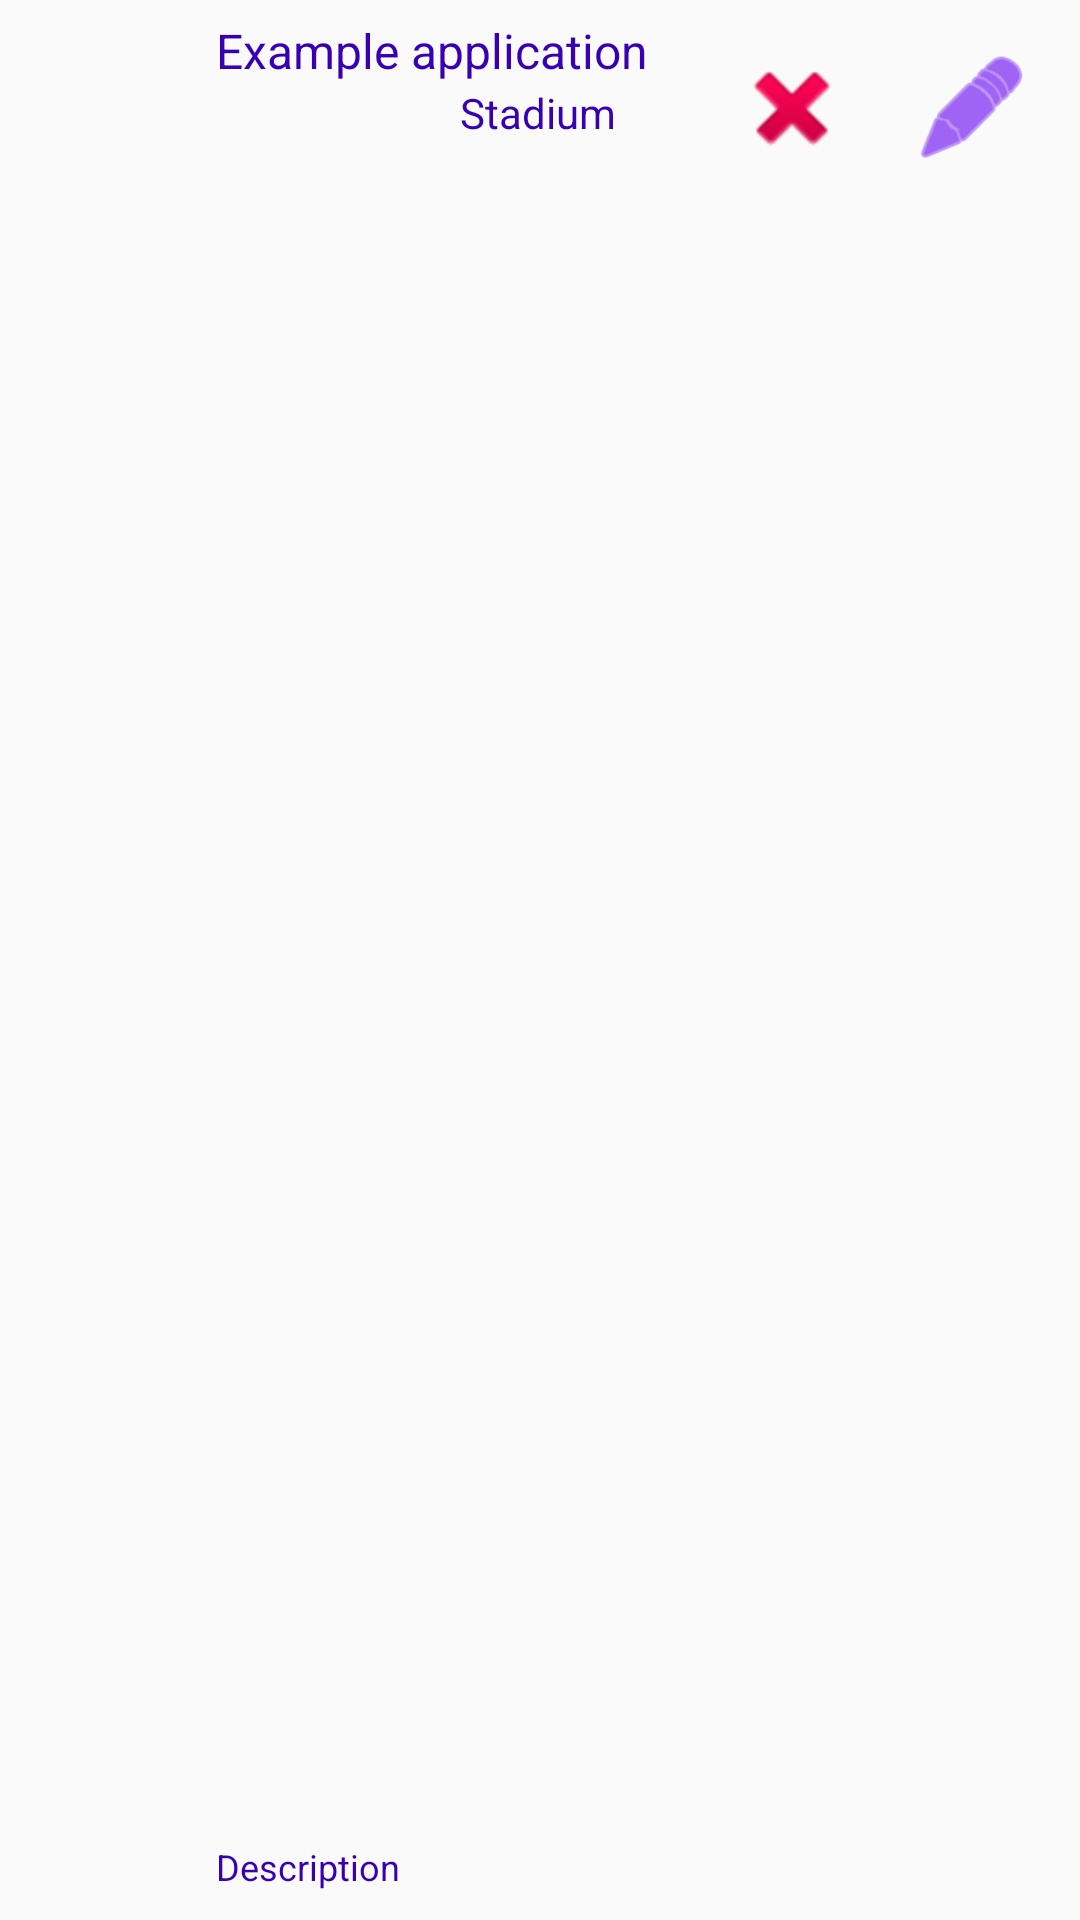

Named icons in this screenshot (1080*1920) and their bounding boxes, [x1, y1, x2, y2]:
delete: [754, 72, 830, 146]
edit: [921, 56, 1022, 158]
